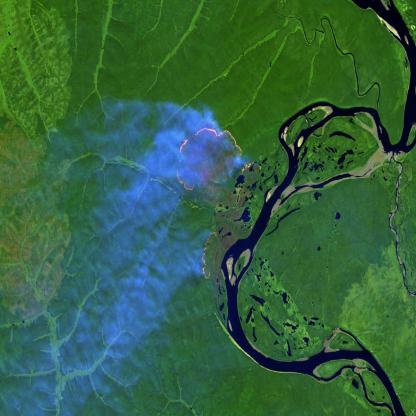fire: (174, 117, 246, 196), (198, 226, 224, 284)
